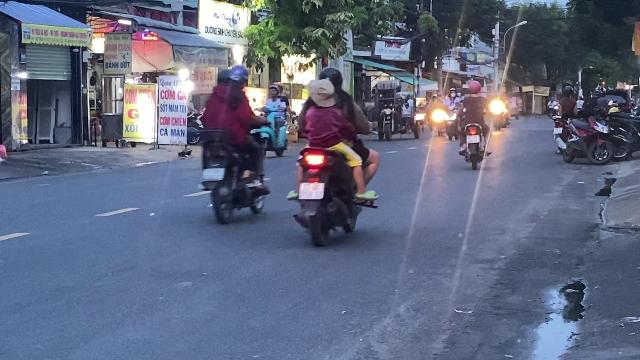helmet: (227, 64, 249, 88), (319, 66, 343, 86), (214, 66, 232, 86), (466, 80, 482, 96)
licenseplate: (299, 183, 323, 199), (203, 167, 225, 179), (466, 135, 478, 143)
motorcyclist: (288, 64, 380, 246), (194, 64, 270, 224), (453, 80, 493, 168)
nohelmet: (306, 78, 334, 106)
